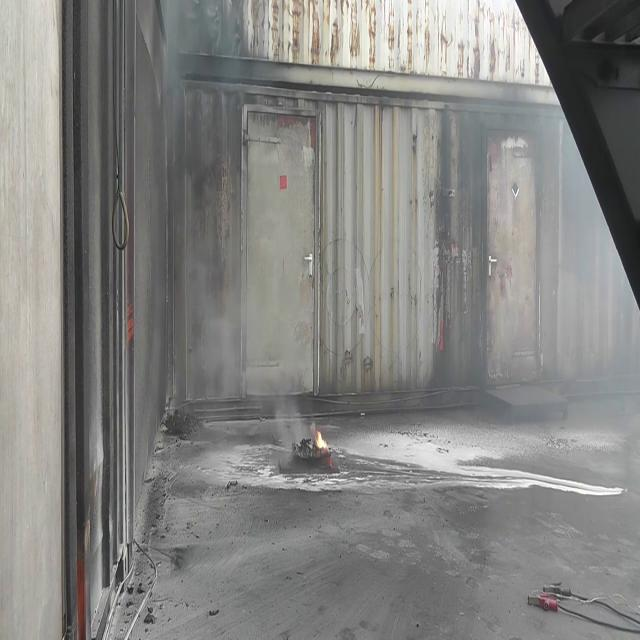Fire: (313, 422, 331, 458)
Smoke: (106, 0, 310, 422)
